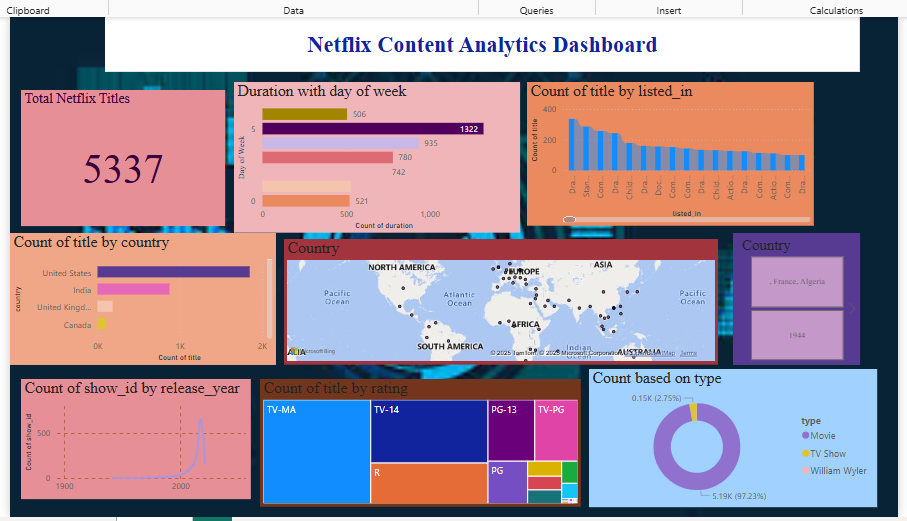

What the dashboard file says about the page in this screenshot:
{"tool":"powerbi","page":{"name":"Page 1","canvas":[1280,720],"ordinal":0},"visuals":[{"type":"card","title":"Total Netflix Titles","fields":{"Values":["cleaned_netflix_data.title"]},"box":[15.8,105.1,293.8,195.8],"z":0},{"type":"donutChart","title":"Count based on type","fields":{"Category":["cleaned_netflix_data.type"],"Y":["cleaned_netflix_data.type"]},"box":[833.8,506.9,414.7,198.7],"z":1000},{"type":"lineChart","fields":{"Category":["cleaned_netflix_data.release_year"],"Y":["cleaned_netflix_data.show_id"]},"box":[15.8,521.3,331.2,172.8],"z":2000},{"type":"barChart","fields":{"Category":["cleaned_netflix_data.country"],"Y":["cleaned_netflix_data.title"]},"box":[0,311,383,190.1],"z":3000},{"type":"map","title":"Country","fields":{"Category":["cleaned_netflix_data.country"]},"box":[394.6,319.7,625,181.4],"z":4000},{"type":"ribbonChart","fields":{"Category":["cleaned_netflix_data.listed_in"],"Y":["cleaned_netflix_data.title"]},"box":[744.5,93.6,413.3,207.4],"z":5000},{"type":"treemap","fields":{"Group":["cleaned_netflix_data.rating"],"Values":["cleaned_netflix_data.title"]},"box":[360,521,462.4,184.4],"z":6000},{"type":"clusteredBarChart","title":"Duration with day of week","fields":{"Category":["cleaned_netflix_data.Day of Week"],"Y":["cleaned_netflix_data.duration"]},"box":[322.6,93.6,411.8,217.4],"z":7000},{"type":"textbox","box":[136.1,0,1087.3,79],"z":8000},{"type":"slicer","fields":{"Values":["cleaned_netflix_data.country"]},"box":[1041.1,311,182.9,190.1],"z":9000}]}

Visuals, with their boxes in screenshot pixels (x1, y1, x2, y2):
"Total Netflix Titles" card: (left=16, top=88, right=221, bottom=224)
"Count based on type" donutChart: (left=587, top=368, right=877, bottom=507)
lineChart - cleaned_netflix_data.release_year x cleaned_netflix_data.show_id: (left=16, top=378, right=247, bottom=499)
barChart - cleaned_netflix_data.country x cleaned_netflix_data.title: (left=5, top=231, right=272, bottom=364)
"Country" map: (left=280, top=238, right=717, bottom=364)
ribbonChart - cleaned_netflix_data.listed_in x cleaned_netflix_data.title: (left=525, top=80, right=814, bottom=225)
treemap - cleaned_netflix_data.rating x cleaned_netflix_data.title: (left=256, top=378, right=579, bottom=507)
"Duration with day of week" clusteredBarChart: (left=230, top=80, right=518, bottom=231)
textbox: (left=100, top=14, right=860, bottom=69)
slicer - cleaned_netflix_data.country: (left=732, top=231, right=860, bottom=364)
